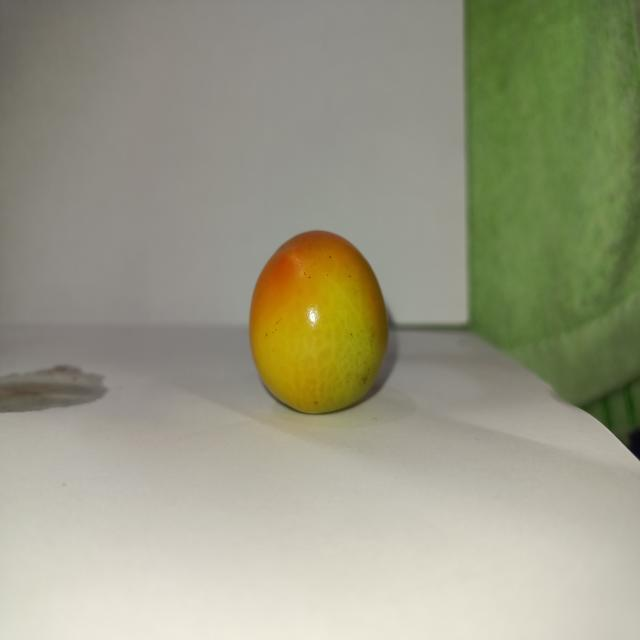Red: (247, 228, 389, 414)
